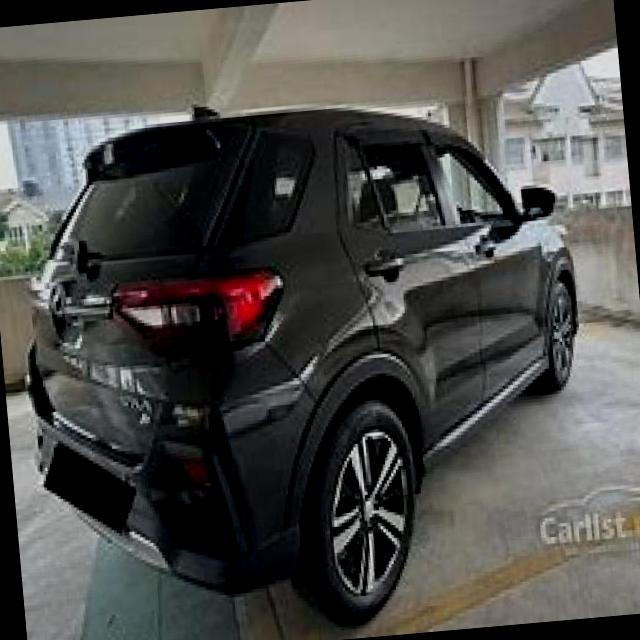PeroduaAtiva: (0, 78, 605, 640)
